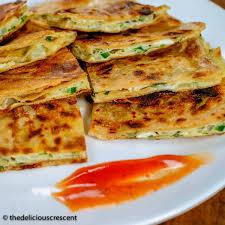paratha: (89, 2, 225, 143), (0, 0, 92, 168)
